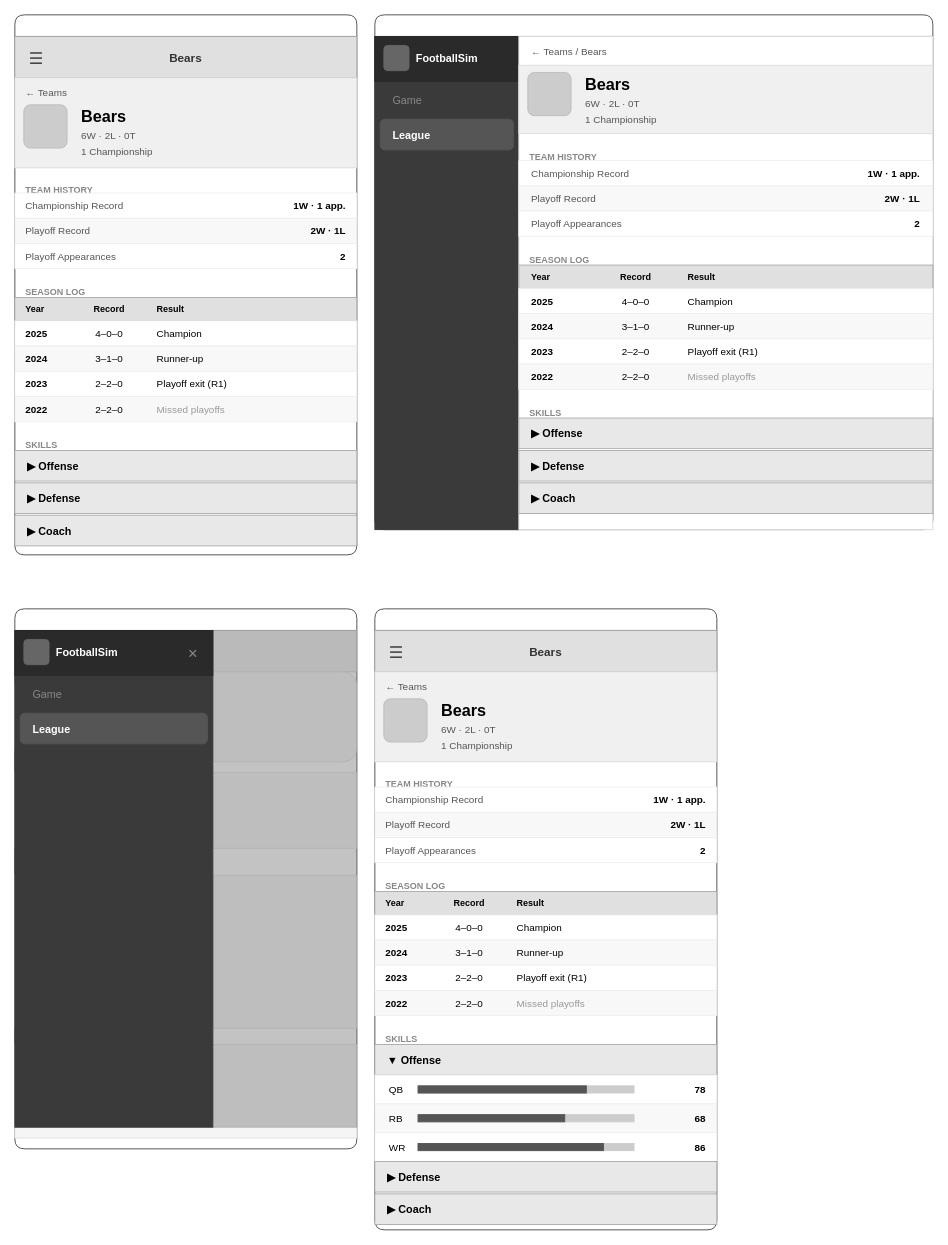
Image size: 948x1245. Some labels were removed from this diagram. The shapes that lost their labels are listed below. From the top down, each one's box as (x1, y1, x2, y2) in pixels, then its label:
(14, 14, 357, 555): Mobile
(374, 14, 933, 530): Desktop
(14, 608, 357, 1149): Mobile — Menu Open
(374, 608, 717, 1230): Mobile — Offense Expanded
